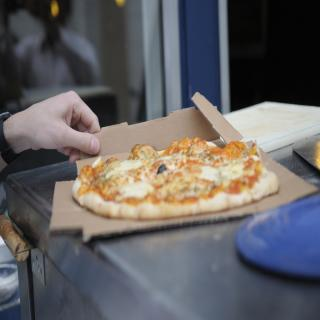Pizza: (73, 137, 280, 211)
